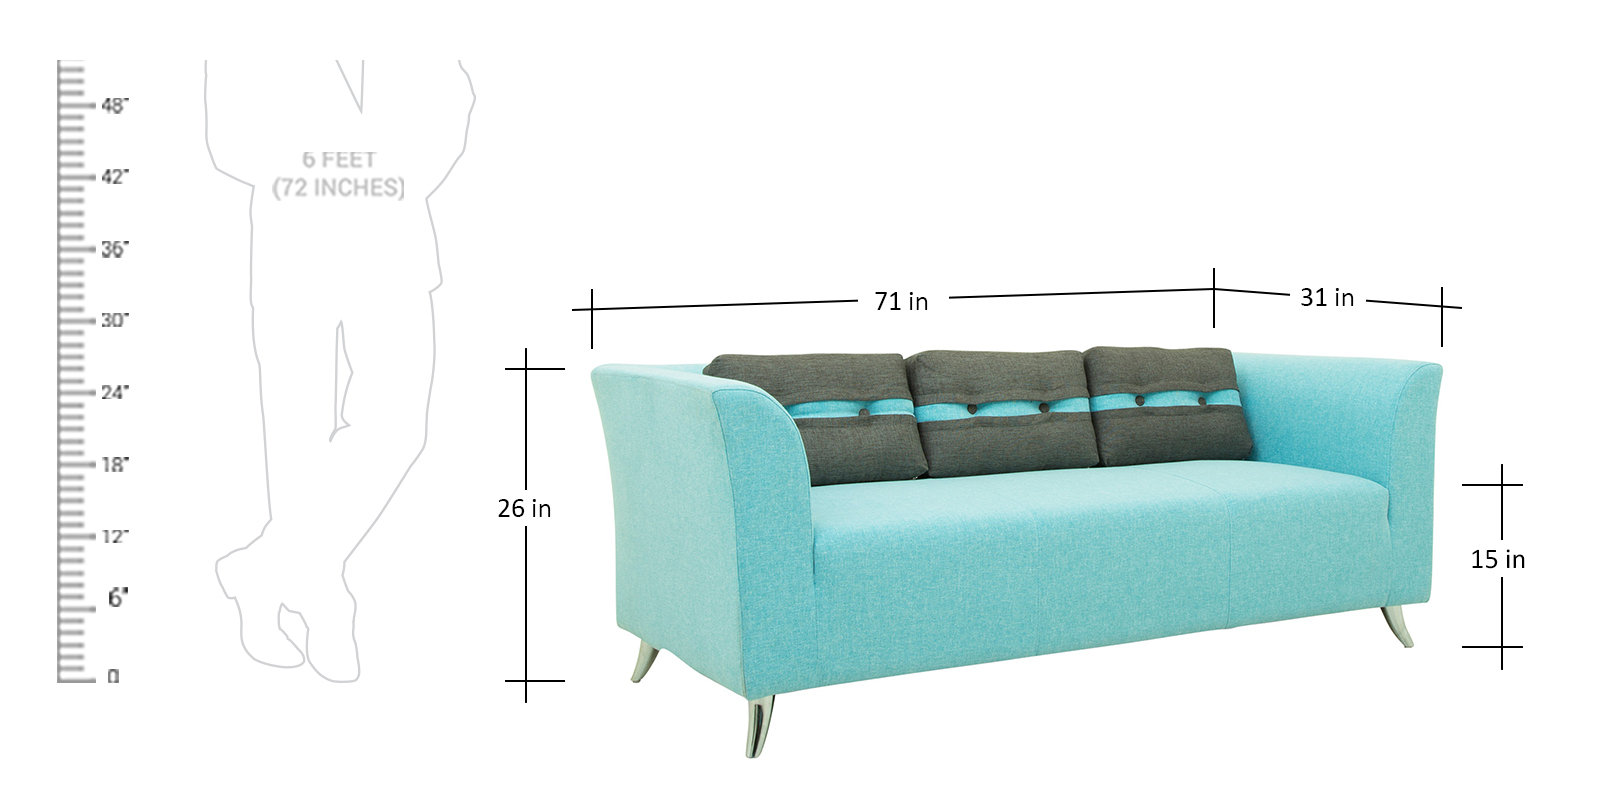Iowa Three Seater Sofa in Celeste Blue Colour by Furnitech: (589, 337, 1477, 755)
